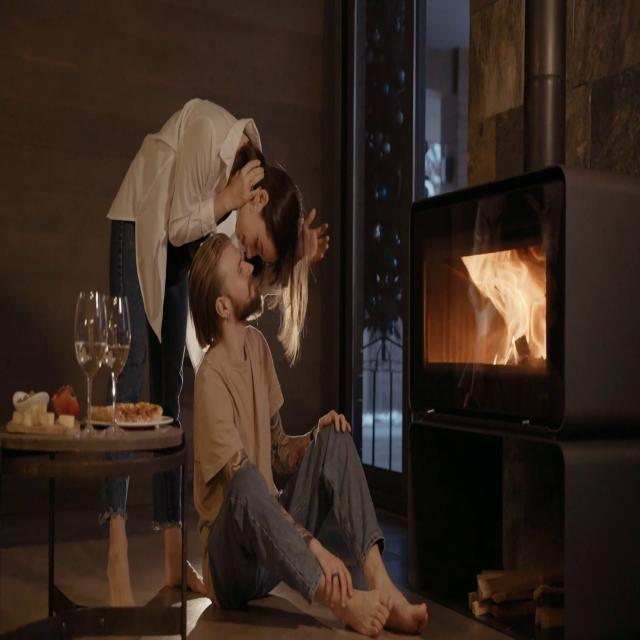Fire: (457, 244, 544, 368)
